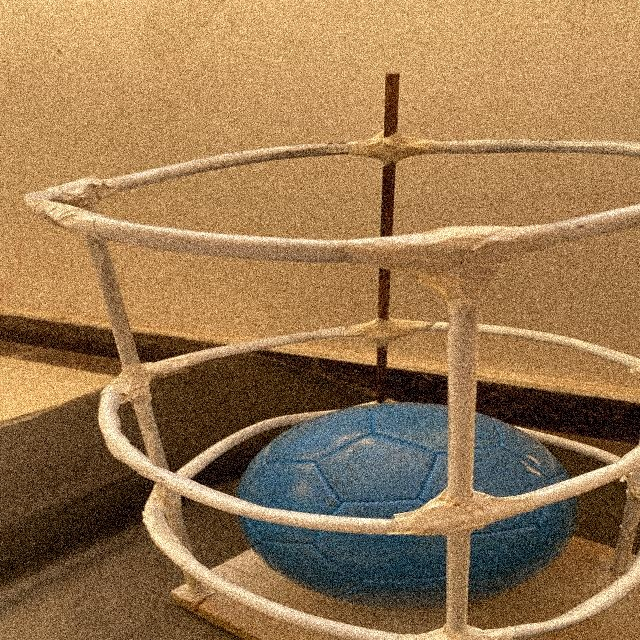blue_ball: (223, 399, 557, 591)
silo: (31, 97, 640, 640)
